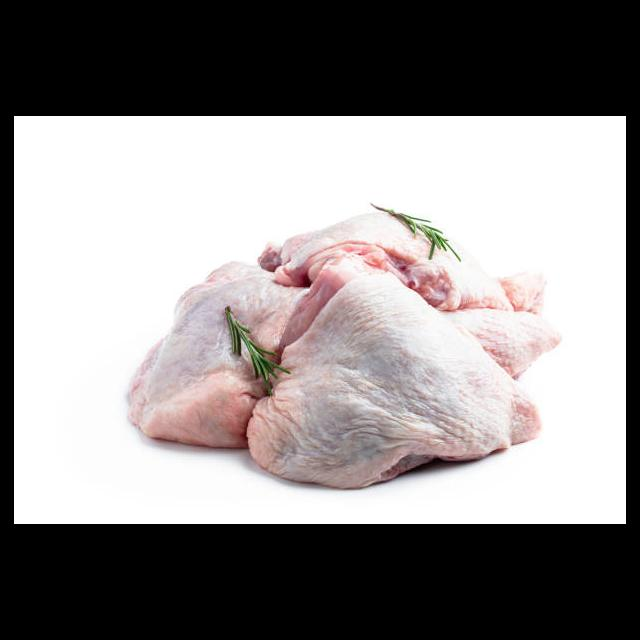chicken: (125, 208, 566, 492)
